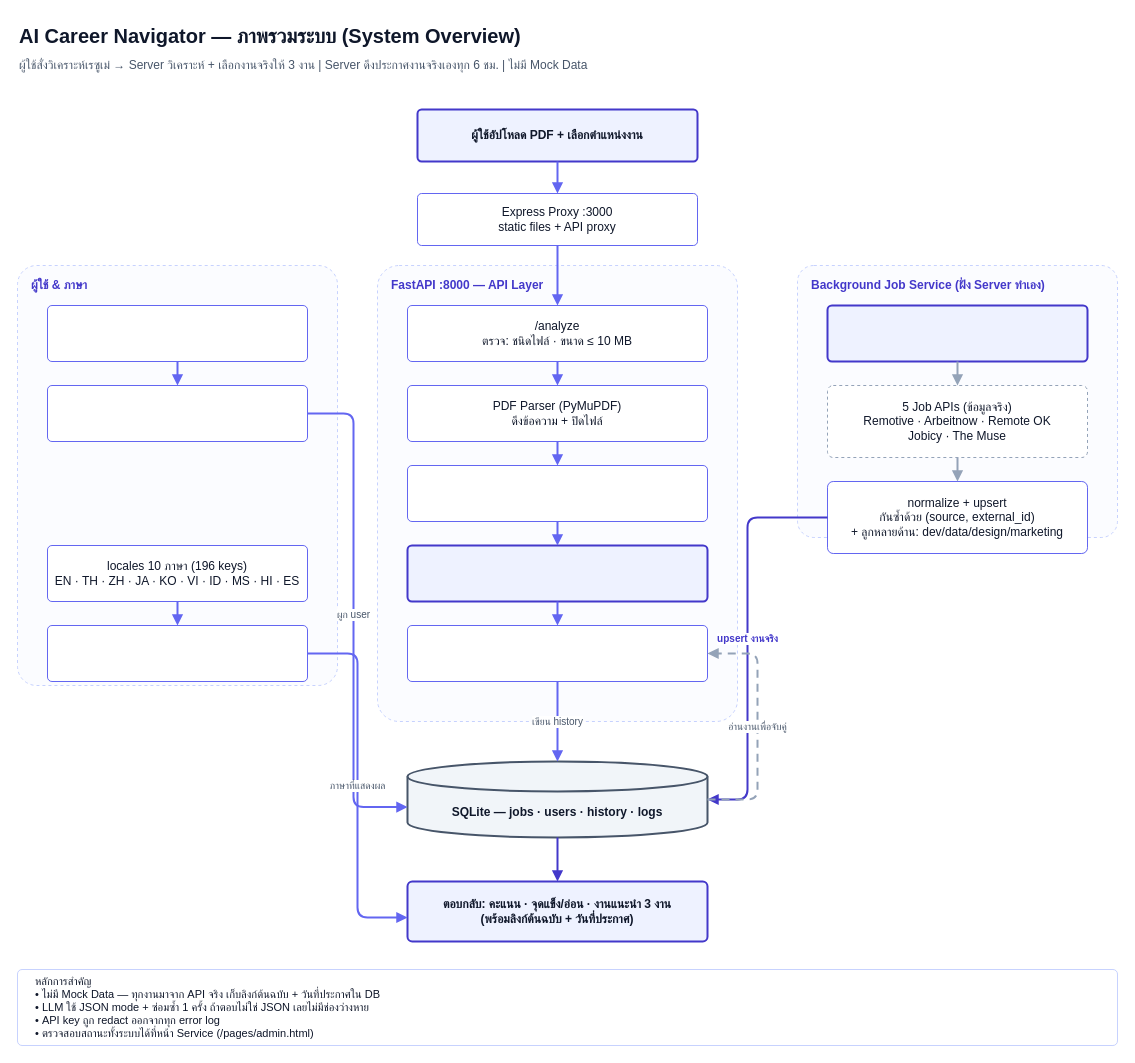
Some shapes in this 1135 by 1063 pixel diagram are drawn without their labels. The shapes that lost their labels are listed below. From the top down, each one's centre as x and y in pixels, then its label:
At point 177,333: "/auth/register · /auth/login PBKDF2 + Bearer token".
At point 957,333: "Job Service (scheduler) ทุก 6 ชม. + seed ตอน boot".
At point 177,413: "ประวัติ & งานที่บันทึก ผูกด้วย token ทุกครั้งที่วิเคราะห์".
At point 557,493: "โครงสร้างเรซูเม์ + ความคล้ายงาน BGE-M3 embedding".
At point 557,573: "LLM วิเคราะห์ (JSON mode) Gemini API / Qwen GGUF".
At point 177,653: "i18next + T(key) /translate แปลผลวิเคราะห์ตามภาษาที่เลือก".
At point 557,653: "Job Matcher คัดกรองจาก job_title/type → คิดคะแนน 10 อันดับ".
